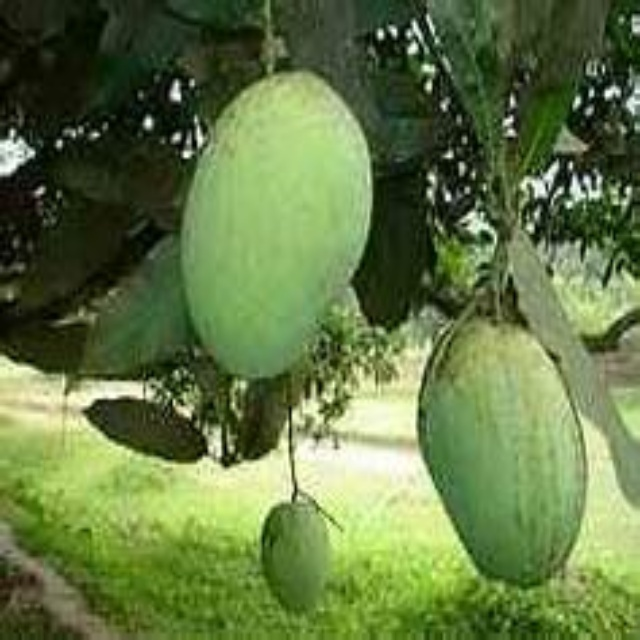mango: (180, 69, 360, 379), (423, 319, 596, 580), (256, 500, 344, 615)
